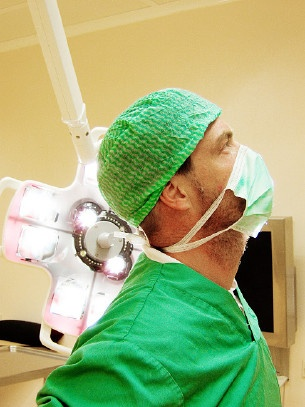Mask: (177, 125, 298, 246)
